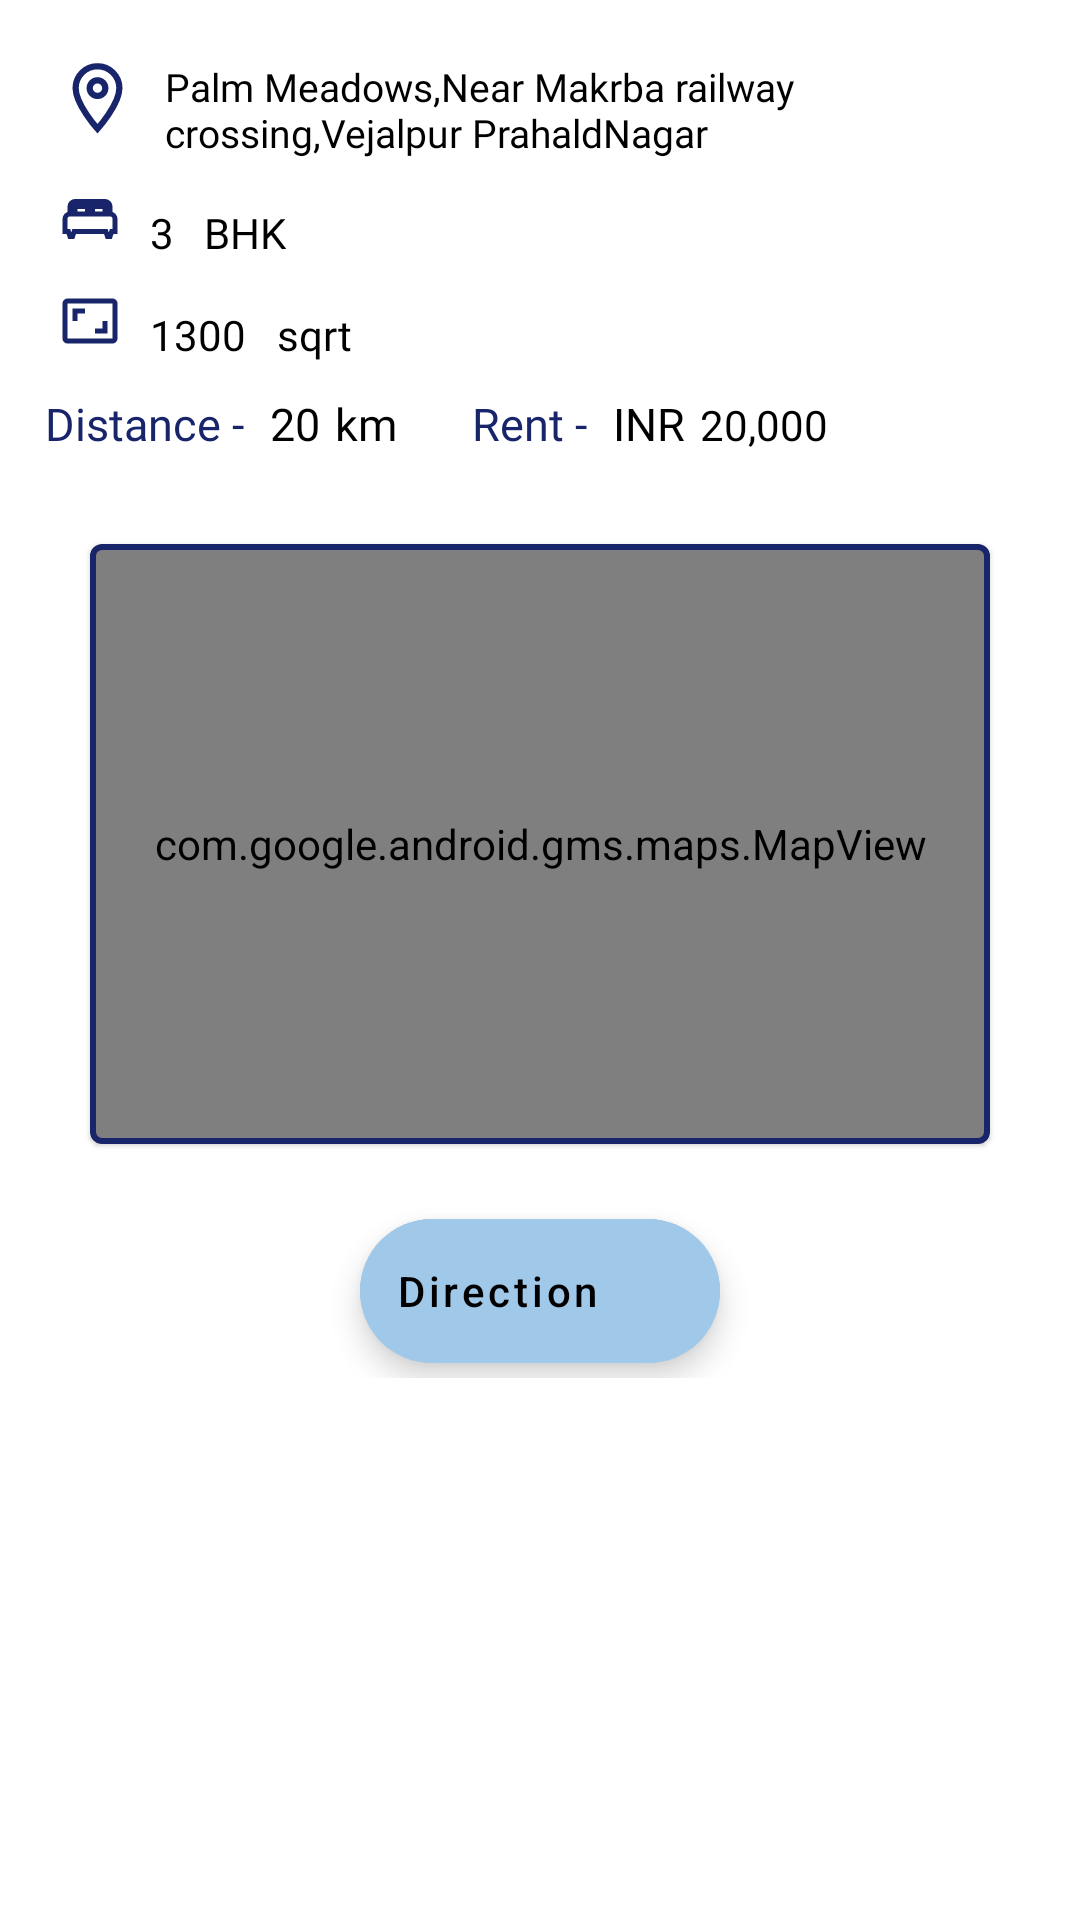

Where icons sit on this 1080x1920 app screen, as [x1, y1, x2, y2]:
aspect ratio: [62, 298, 118, 344]
king bed: [62, 199, 118, 239]
location on: [72, 63, 123, 134]
